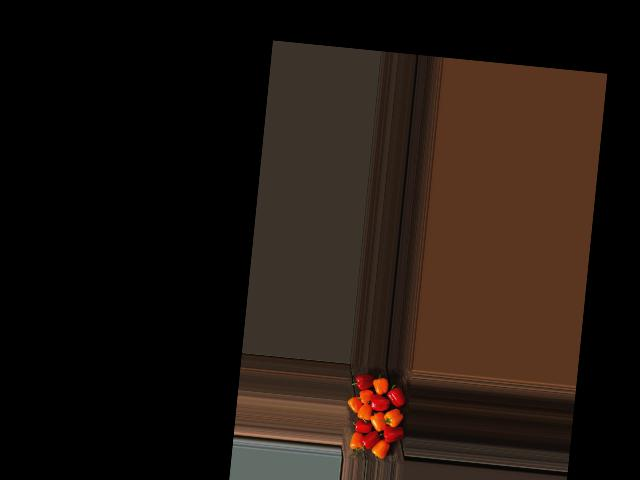bell_pepper: (371, 433, 394, 460)
